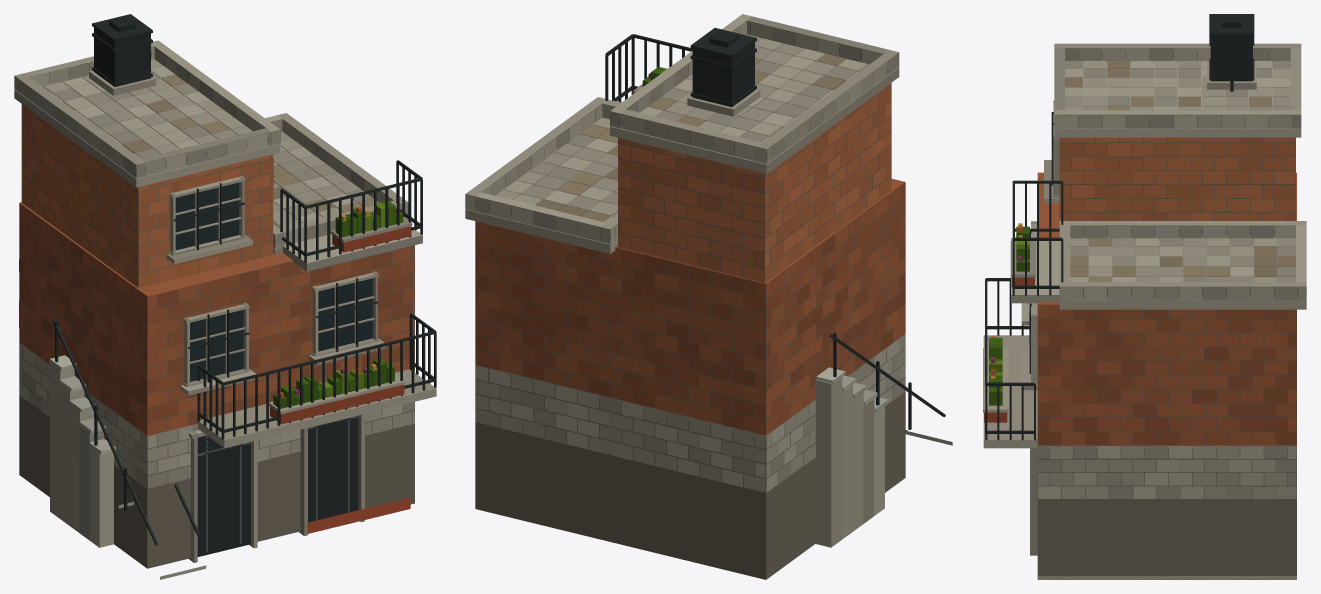
Rendered from SM_StreetFrontage_100.fbx.
3 renders of one model, left to right at view 1: azimuth 30°, elevation 25°; view 2: azimuth 150°, elevation 25°; view 3: azimuth 270°, elevation 25°, orthographic. The views are drawn at different scales.
Parts seen in each view (by area): view 1: SM_StreetFrontage_100; view 2: SM_StreetFrontage_100; view 3: SM_StreetFrontage_100.
Part boxes in pixels (box(x1,y1,x2,y2)): SM_StreetFrontage_100: box(14, 14, 436, 579); SM_StreetFrontage_100: box(465, 14, 952, 579); SM_StreetFrontage_100: box(983, 14, 1306, 579).
Bounding box in the file's own units: 7.39 × 7.16 × 11.32.
